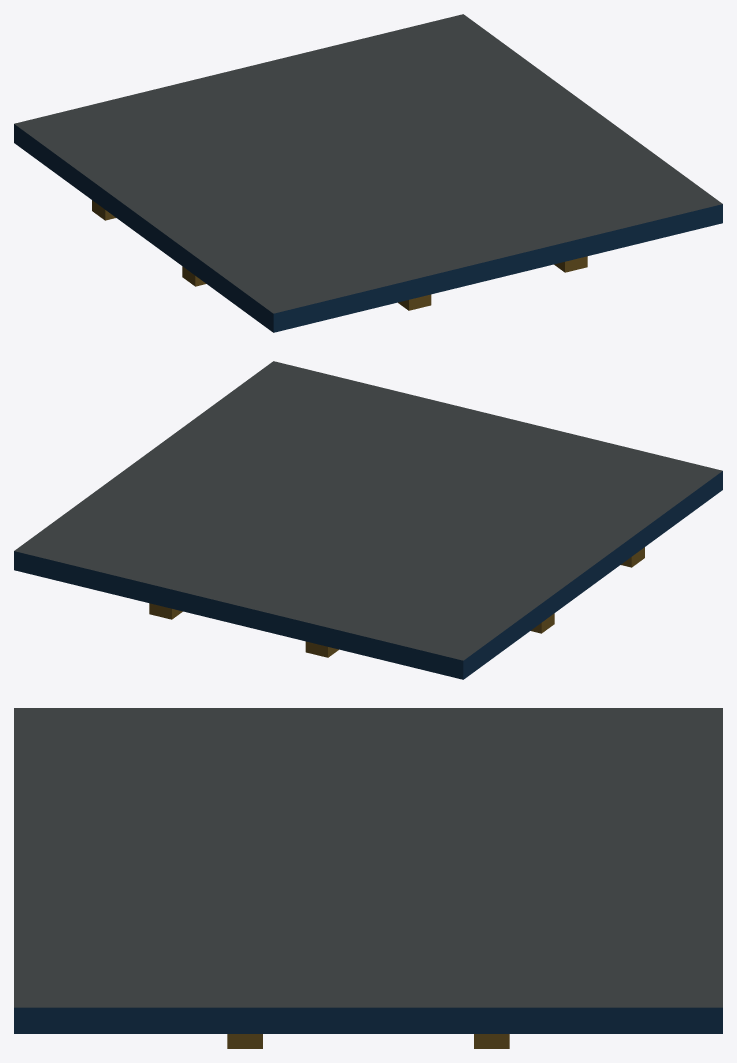
File: RoofTop.fbx
3 views of the same model, one above another, from view 1: azimuth 30°, elevation 25°; view 2: azimuth 150°, elevation 25°; view 3: azimuth 270°, elevation 25° (orthographic). The views are drawn at different scales.
Visible parts, largest first — view 1: pCube146; view 2: pCube146; view 3: pCube146.
Boxes of the visible parts, box(x1,y1,x2,y2) form: pCube146: box(14, 14, 722, 332); pCube146: box(14, 361, 722, 679); pCube146: box(14, 708, 722, 1048).
Bounding box in the file's own units: 3 × 0.1925 × 3.
